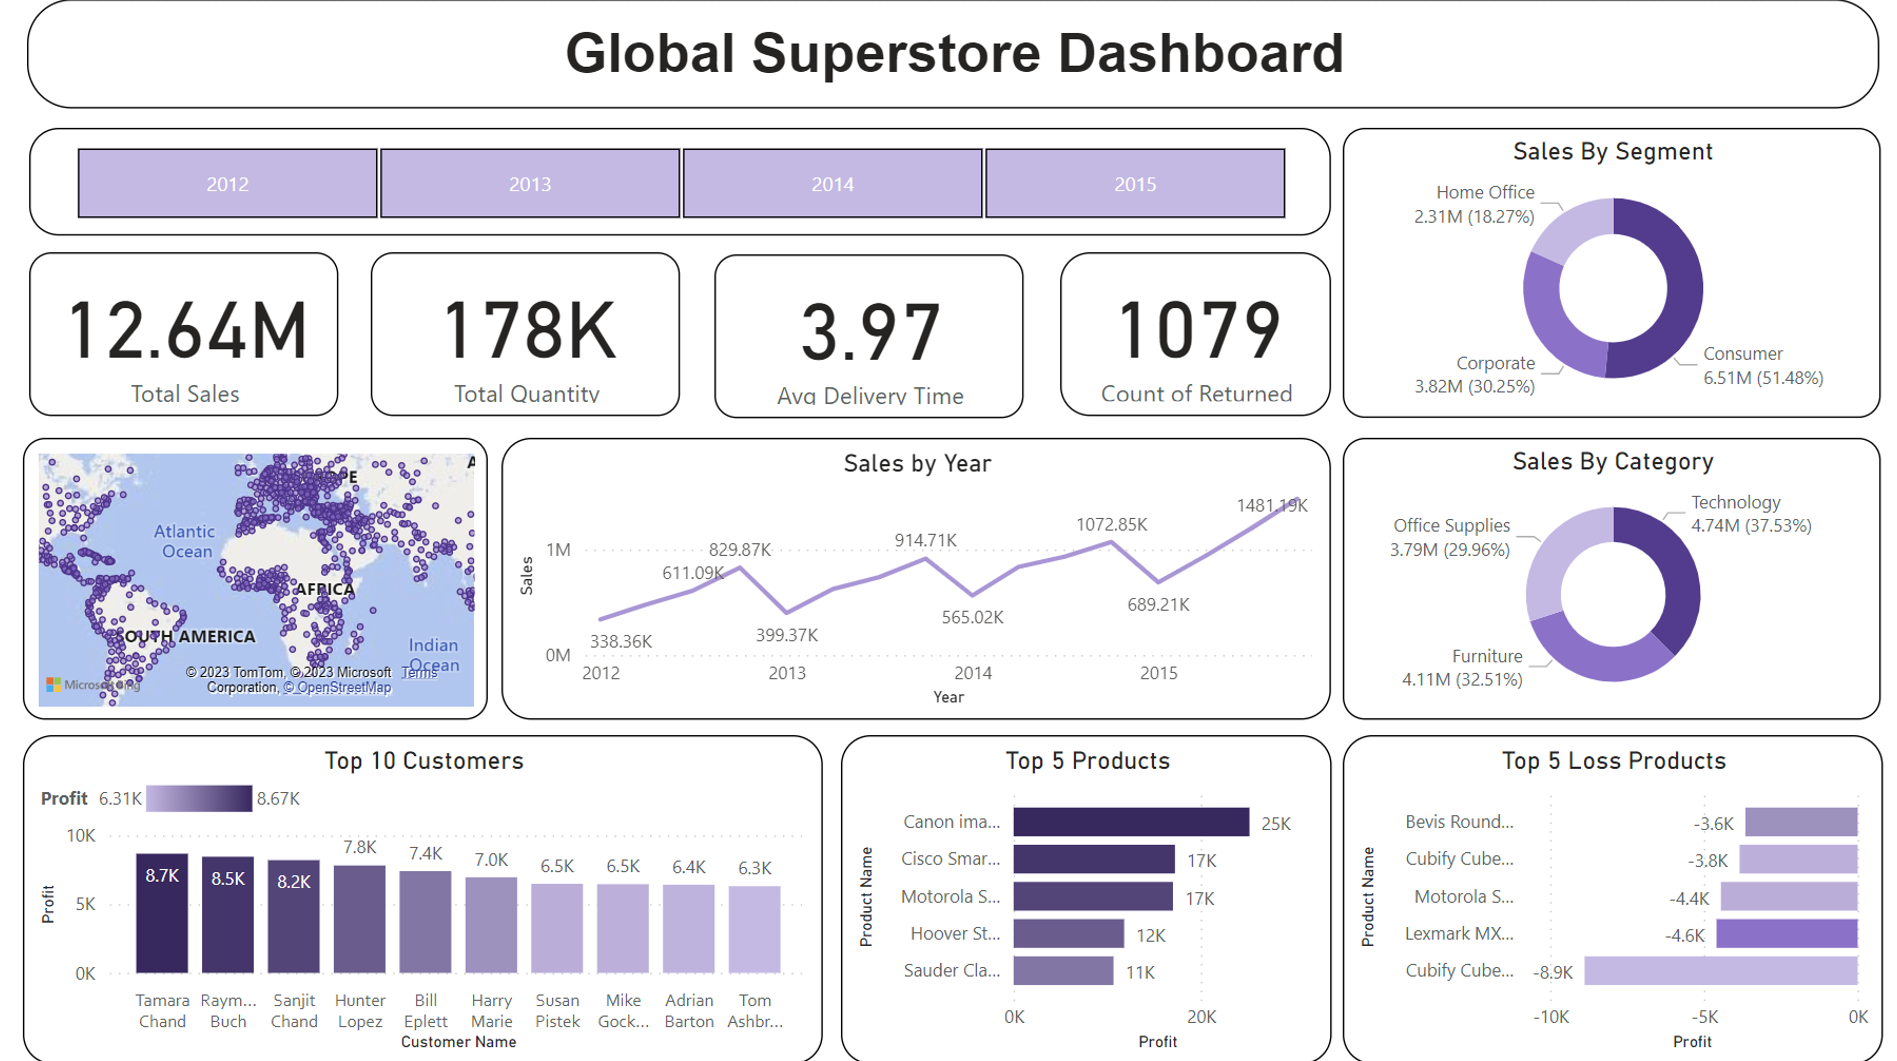

The dashboard page shown, as its layout file describes it:
{"tool":"powerbi","page":{"name":"Introduction","canvas":[1280,720],"ordinal":0},"visuals":[{"type":"card","fields":{"Values":["Orders.Sales"]},"box":[16.7,171.6,209.5,110.8],"z":0},{"type":"donutChart","title":"Sales By Segment","fields":{"Category":["Orders.Segment"],"Y":["Orders.Sales"]},"box":[906.5,86.7,364.6,196.3],"z":1000},{"type":"donutChart","title":"Sales By Category","fields":{"Category":["Orders.Category"],"Y":["Orders.Sales"]},"box":[906.5,297.1,364.6,191.2],"z":2000},{"type":"slicer","fields":{"Values":["Orders.State"]},"box":[16.1,297.2,185.5,191.2],"z":3000},{"type":"textbox","box":[16.1,0,1254.5,73.7],"z":5000},{"type":"card","fields":{"Values":["Orders.Delivery Time"]},"box":[481.3,173.1,209.5,110.8],"z":6000},{"type":"card","fields":{"Values":["Orders.Quantity"]},"box":[249,171.6,209.5,110.8],"z":8000},{"type":"lineChart","title":"Sales by Year","fields":{"Y":["Orders.Sales"],"Category":["Orders.Order Date.Variation.Date Hierarchy.Year","Orders.Order Date.Variation.Date Hierarchy.Quarter"]},"box":[209.7,297.2,688.9,191.2],"z":9000},{"type":"slicer","fields":{"Values":["Orders.Order Date.Variation.Date Hierarchy.Year"]},"box":[16.7,86.5,882.2,72.9],"z":10000},{"type":"card","fields":{"Values":["Returns.Returned"]},"box":[715.2,171.6,183.7,110.8],"z":11000},{"type":"columnChart","title":"Top 10 Cusstomers","fields":{"Y":["Orders.Profit"],"Category":["Orders.Customer Name"]},"box":[12.7,506.9,541.4,213.1],"z":11001},{"type":"clusteredBarChart","title":"Top 5 Products","fields":{"Category":["Orders.Product Name"],"Y":["Orders.Profit"]},"box":[567.9,506.9,331.8,213.1],"z":11002},{"type":"clusteredBarChart","title":"Top 5 Loss Products","fields":{"Y":["Orders.Profit"],"Category":["Orders.Product Name"]},"box":[906.6,506.9,366.3,213.1],"z":11003}]}

Visuals, with their boxes in screenshot pixels (x1, y1, x2, y2), scaled from the page's 1280x720 canvas onto the 1897x1061 screenshot:
card - Orders.Sales: x1=25 y1=253 x2=335 y2=416
"Sales By Segment" donutChart: x1=1343 y1=128 x2=1884 y2=417
"Sales By Category" donutChart: x1=1343 y1=438 x2=1884 y2=720
slicer - Orders.State: x1=24 y1=438 x2=299 y2=720
textbox: x1=24 y1=0 x2=1883 y2=109
card - Orders.Delivery Time: x1=713 y1=255 x2=1024 y2=418
card - Orders.Quantity: x1=369 y1=253 x2=680 y2=416
"Sales by Year" lineChart: x1=311 y1=438 x2=1332 y2=720
slicer - Orders.Order Date.Variation.Date Hierarchy.Year: x1=25 y1=127 x2=1332 y2=235
card - Returns.Returned: x1=1060 y1=253 x2=1332 y2=416
"Top 10 Cusstomers" columnChart: x1=19 y1=747 x2=821 y2=1060
"Top 5 Products" clusteredBarChart: x1=842 y1=747 x2=1333 y2=1060
"Top 5 Loss Products" clusteredBarChart: x1=1344 y1=747 x2=1886 y2=1060
